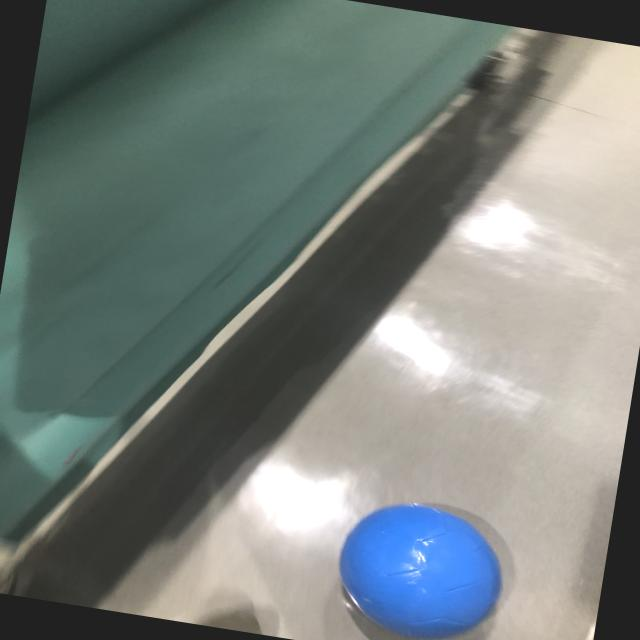blue_ball: (328, 492, 519, 640)
